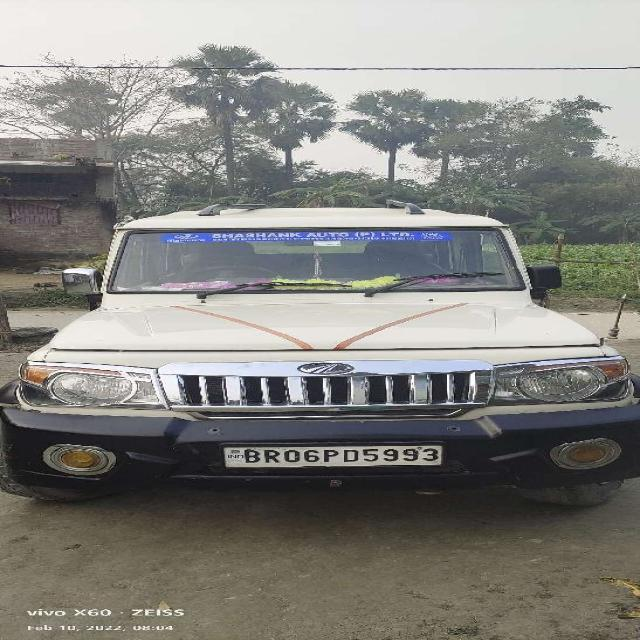light_vehicle: (16, 225, 639, 481)
